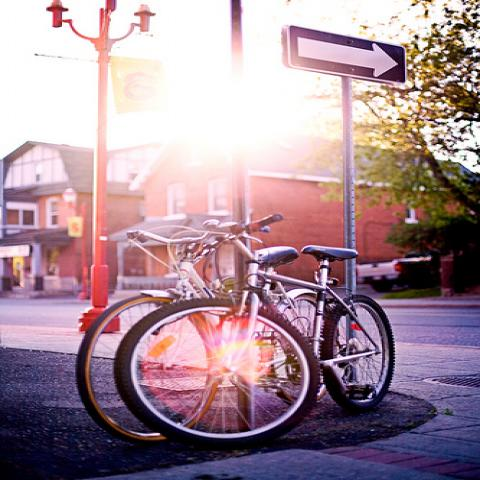truck: (357, 251, 439, 293)
